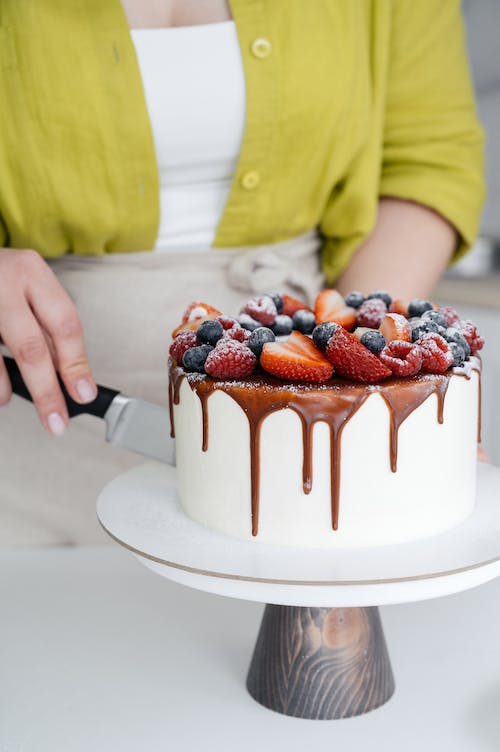knife: (2, 352, 180, 468)
